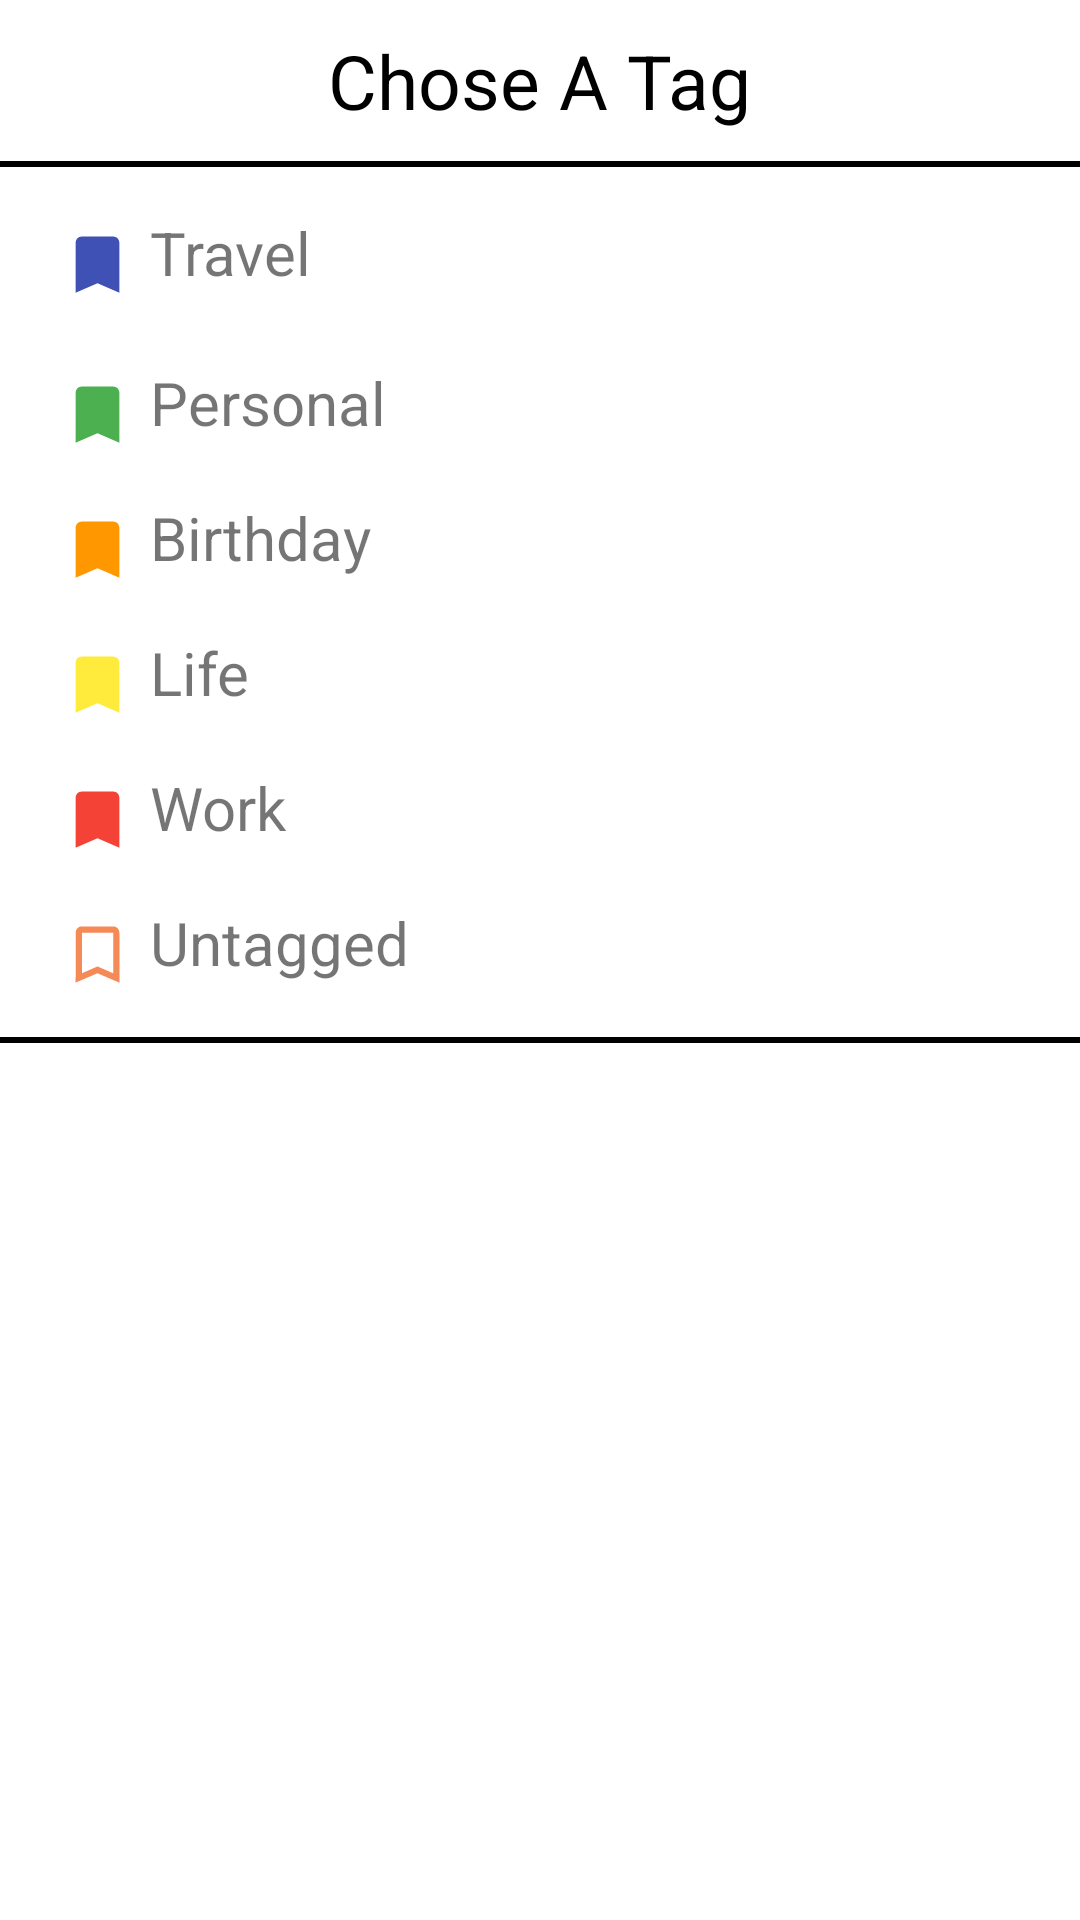

Point at icon controls on the screen. Image size 1080 x 1920, points as (x,y).
bookmark: (97,264), (97,684), (97,819)
bookmark border: (97,954)
bookmark grren: (97,414)
bookmark orage: (97,549)
